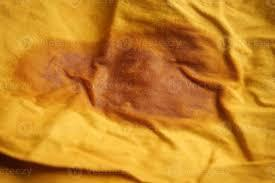mustard: (25, 27, 238, 120)
